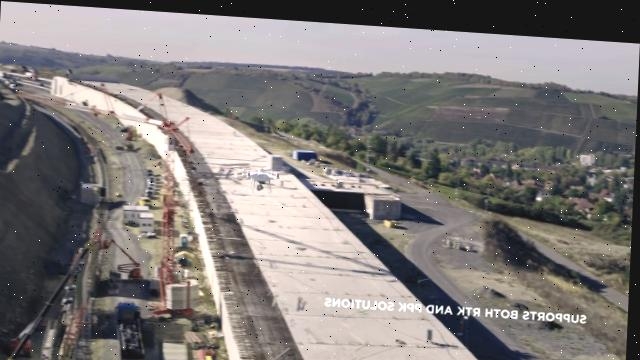drone: (240, 160, 285, 190)
